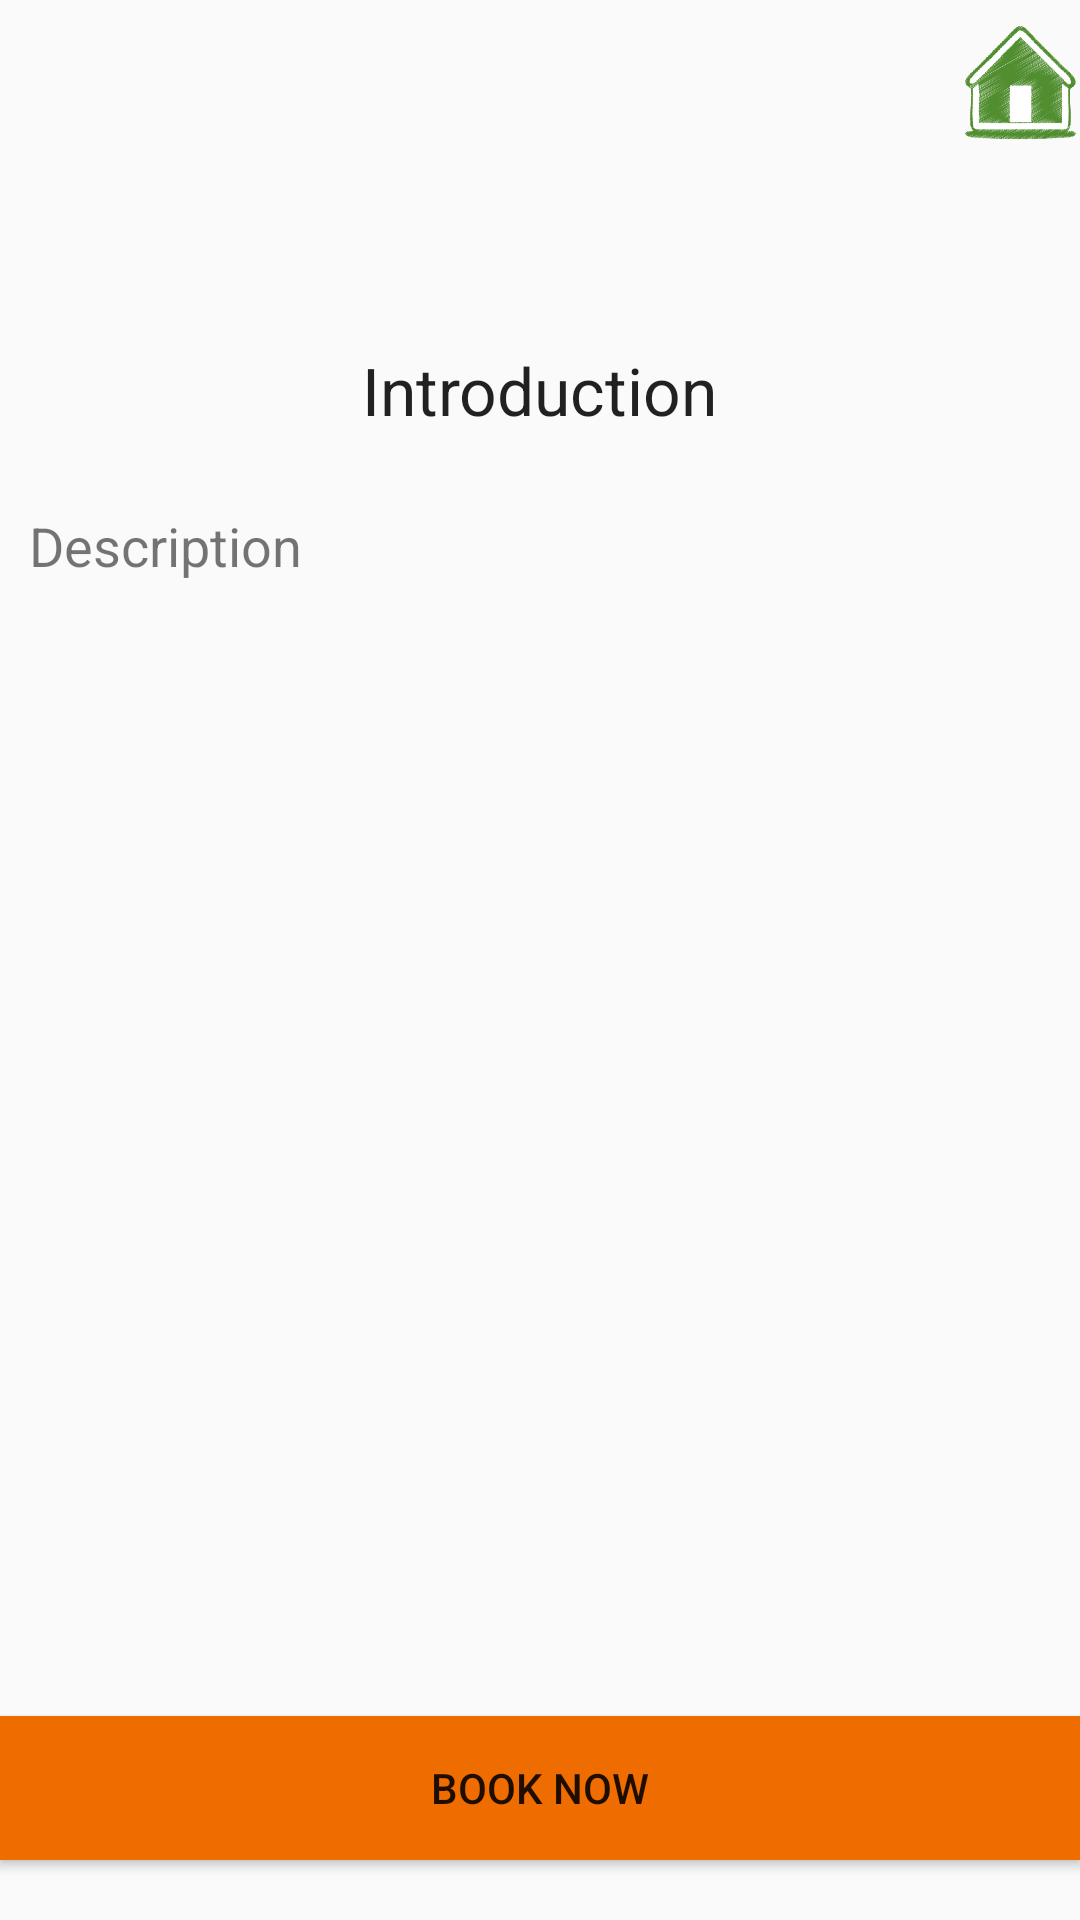

Locate icon controls on the screen. Image size 1080×1920, boxes as (left=x1, top=y1, right=x2, bottom=y2).
homeicon: (left=965, top=26, right=1076, bottom=139)
